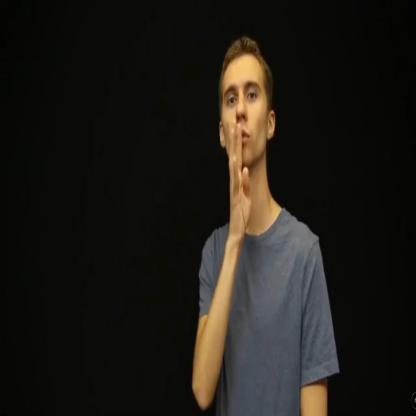Talk: (213, 23, 292, 246)
